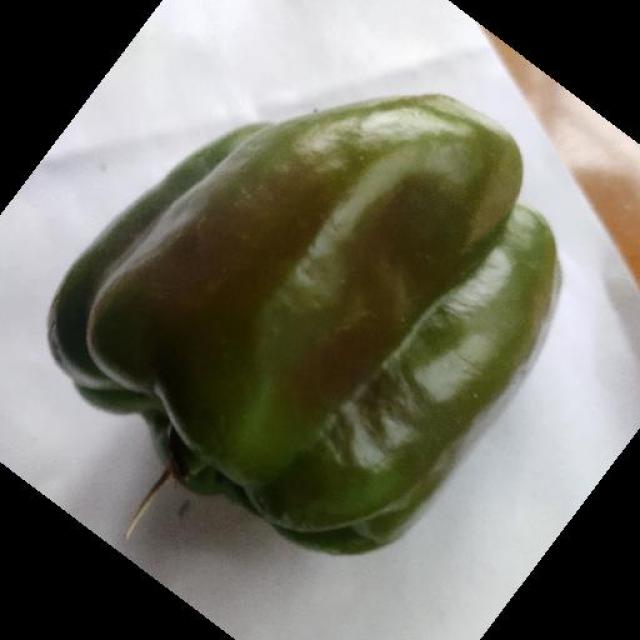Stale_Capsicum: (51, 129, 510, 542)
